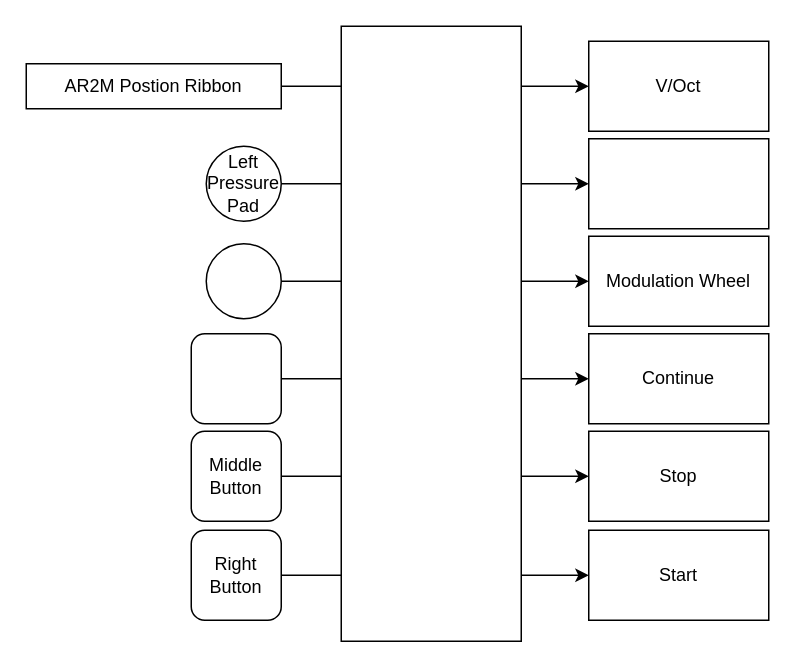
Image size: 795x668. Some labels were removed from this diagram. Each missing label, with the centre of its shape:
"Gate" belongs at (x=678, y=183).
"Left Button" belongs at (x=235, y=378).
"MIDI" belongs at (x=430, y=333).
"Right Pressure Pad" belongs at (x=243, y=280).
